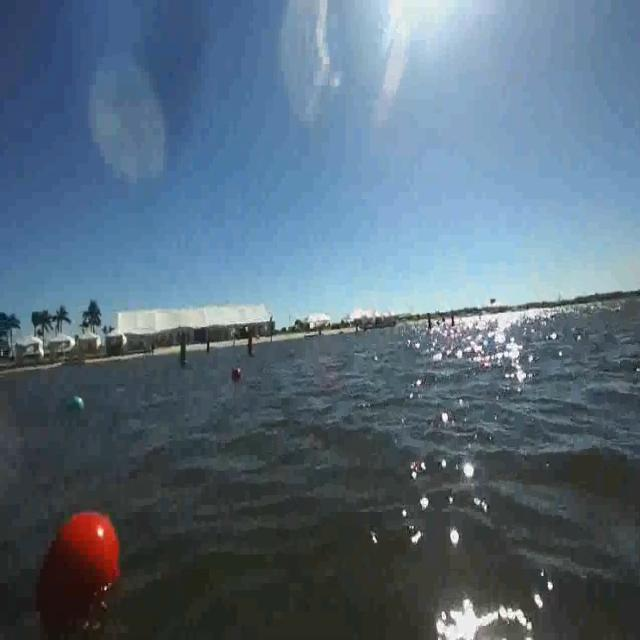black-buoy: (231, 367, 243, 383)
green-buoy: (69, 395, 84, 411)
green-column-buoy: (180, 336, 192, 367)
red-buoy: (37, 510, 120, 639)
red-column-buoy: (247, 331, 255, 358)
